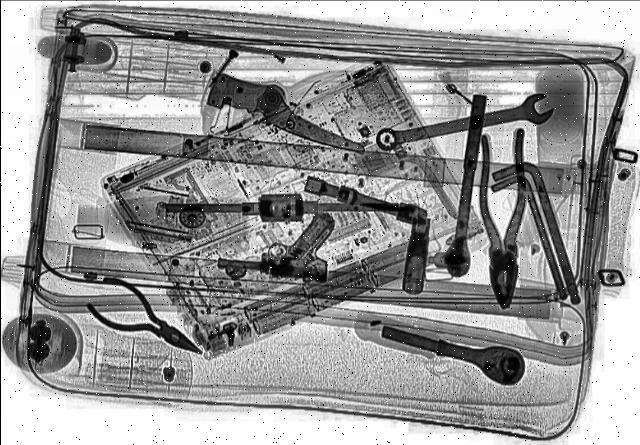Gun: (212, 204, 346, 285)
Pliers: (68, 274, 224, 368), (478, 130, 530, 310)
Wrench: (370, 94, 560, 156)
